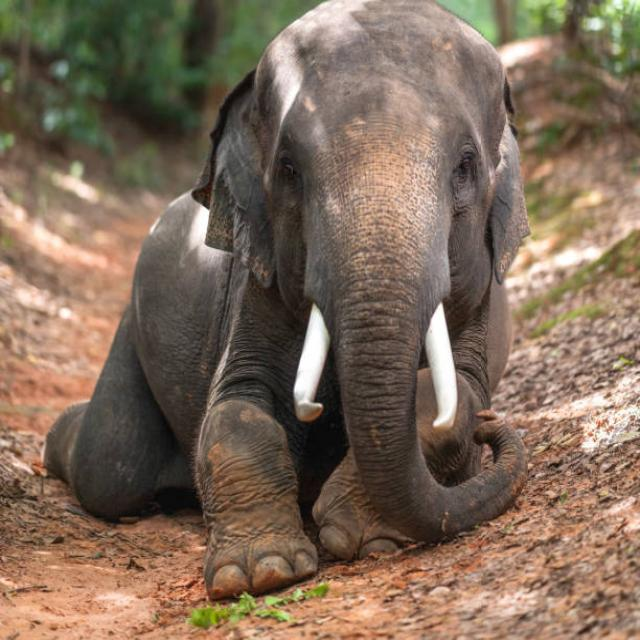Elephant: (44, 0, 553, 603)
